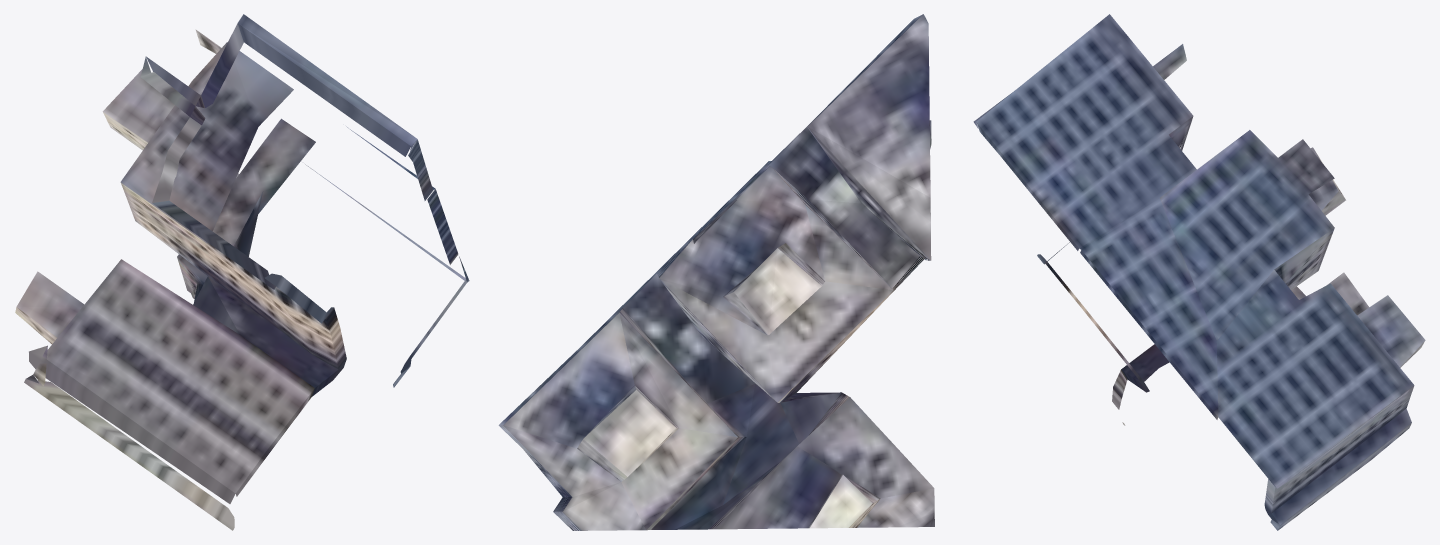
3 renders of one model, left to right at view 1: azimuth 30°, elevation 25°; view 2: azimuth 150°, elevation 25°; view 3: azimuth 270°, elevation 25°, orthographic. The views are drawn at different scales.
Bounding box in the file's own units: 64.84 × 71.23 × 69.33.
Materials: 1 (1 with a texture image).
